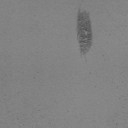oxide scale of plate system: (76, 9, 92, 54)
